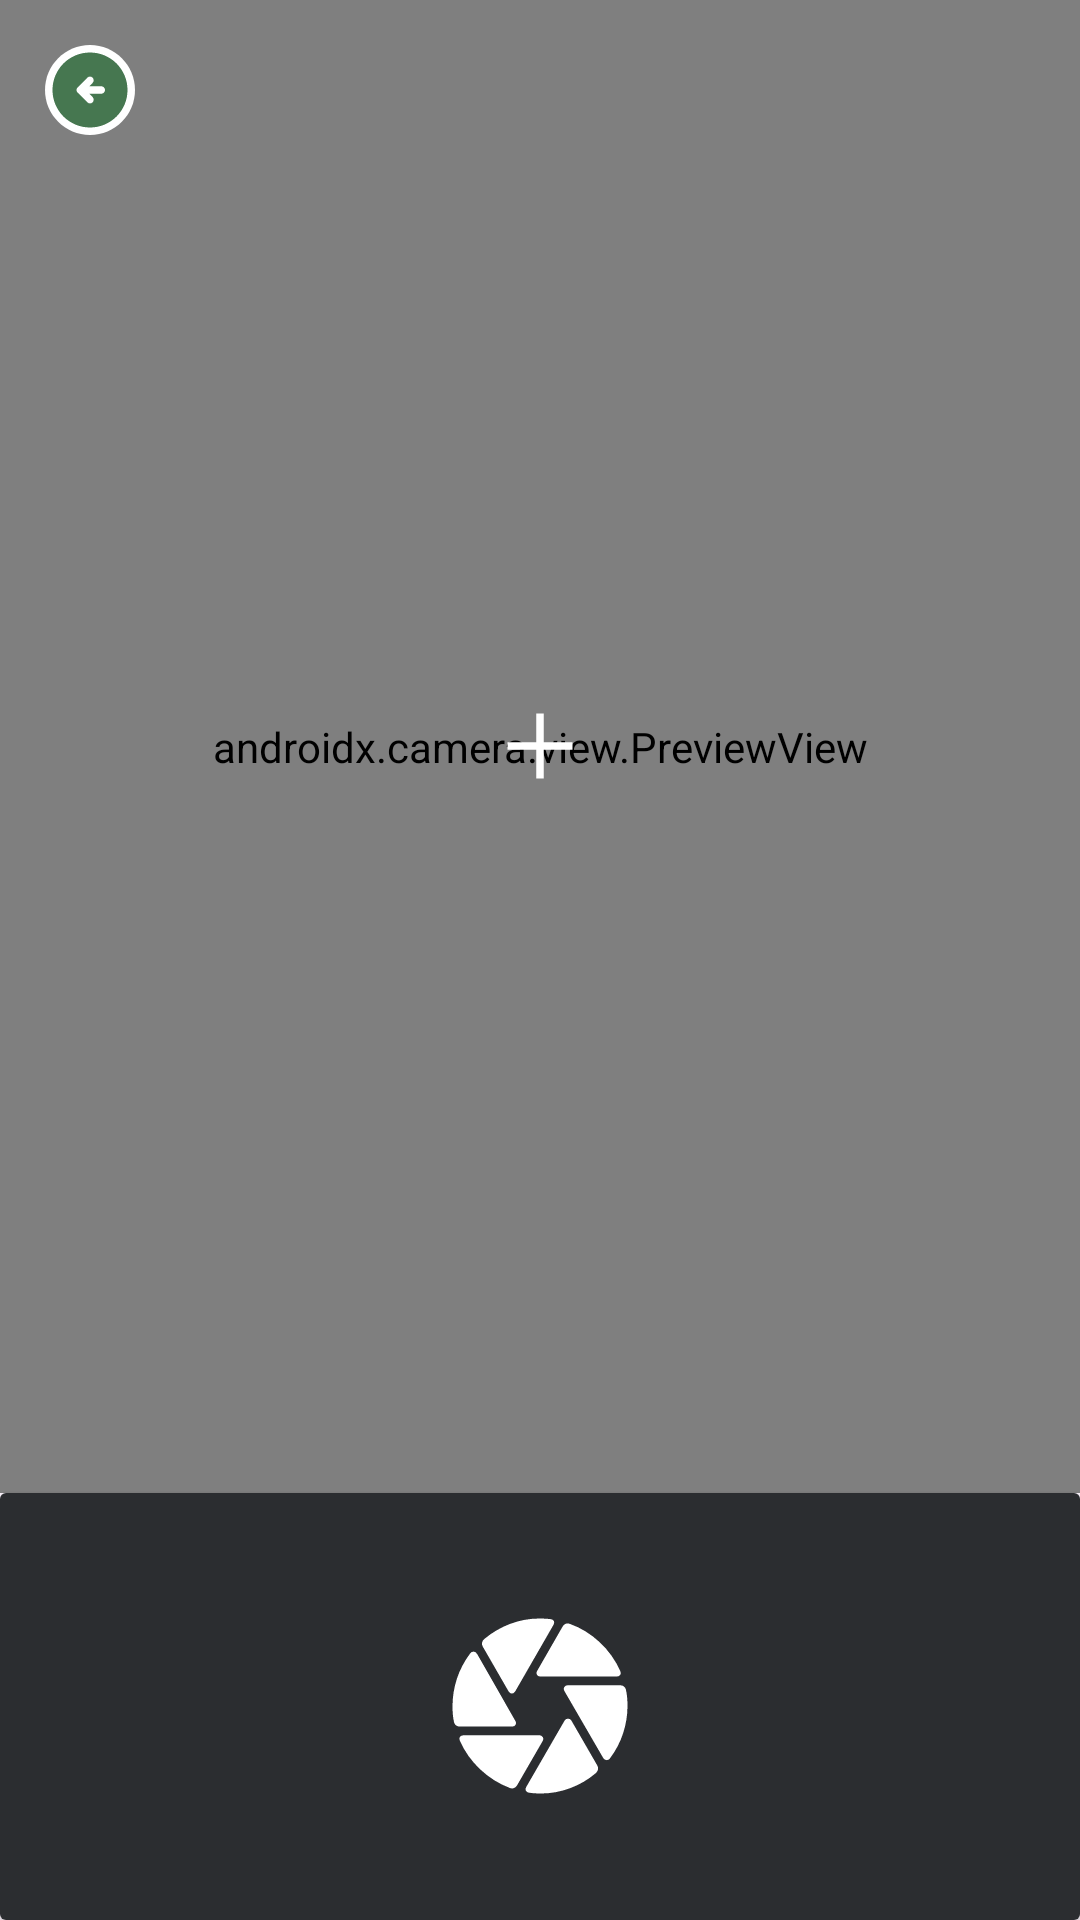

Screen size 1080 × 1920. Icon name, then its center in pixels as point (x, y):
Back: point (90, 90)
Capture: point (540, 1706)
